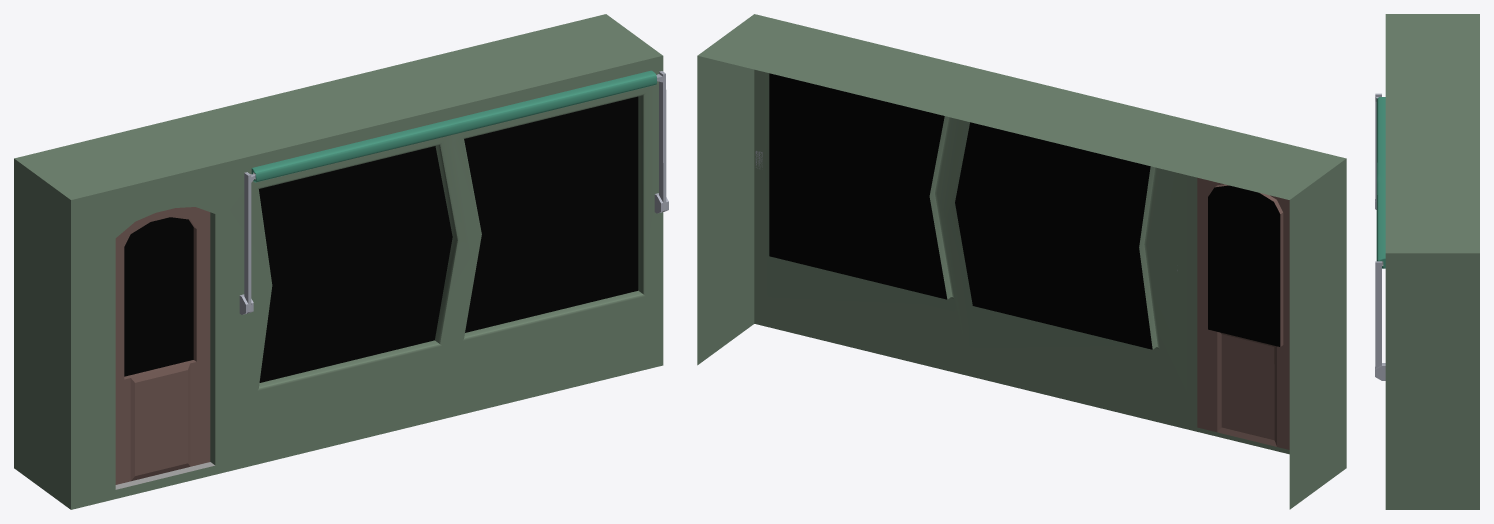
Rendered from Boutique_1.fbx.
3 renders of one model, left to right at view 1: azimuth 30°, elevation 25°; view 2: azimuth 150°, elevation 25°; view 3: azimuth 270°, elevation 25°, orthographic. The views are drawn at different scales.
Visible parts, largest first — view 1: pCube22; view 2: pCube22; view 3: pCube22.
Boxes of the visible parts, x1,y1,x2,y2 form: pCube22: (14,14,668,509); pCube22: (697,14,1346,509); pCube22: (1375,14,1479,509).
Size of the model in its own units: 0.06 by 0.03 by 0.0111.
